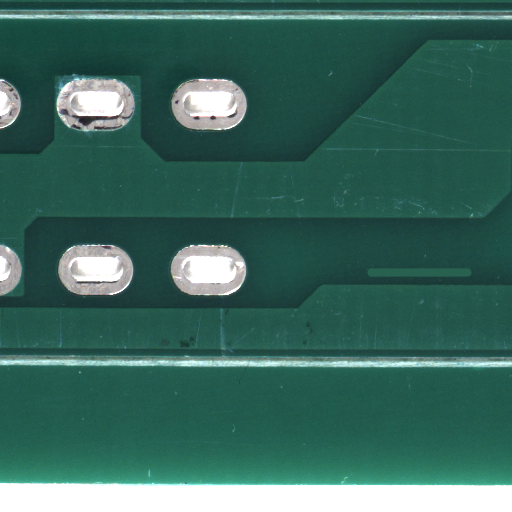Spurious_copper: (418, 271, 512, 284)
